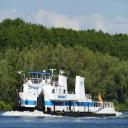tugboat: (13, 68, 118, 119)
